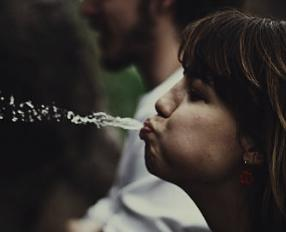Spitting: (101, 0, 285, 197)
